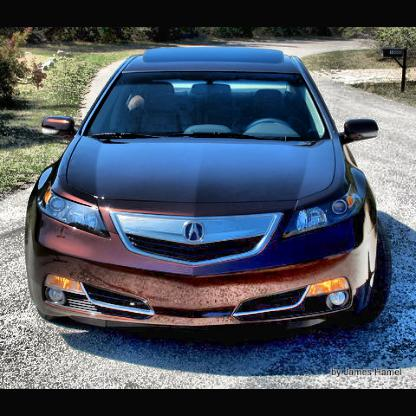Acura TL Sedan 2012: (14, 35, 406, 380)
